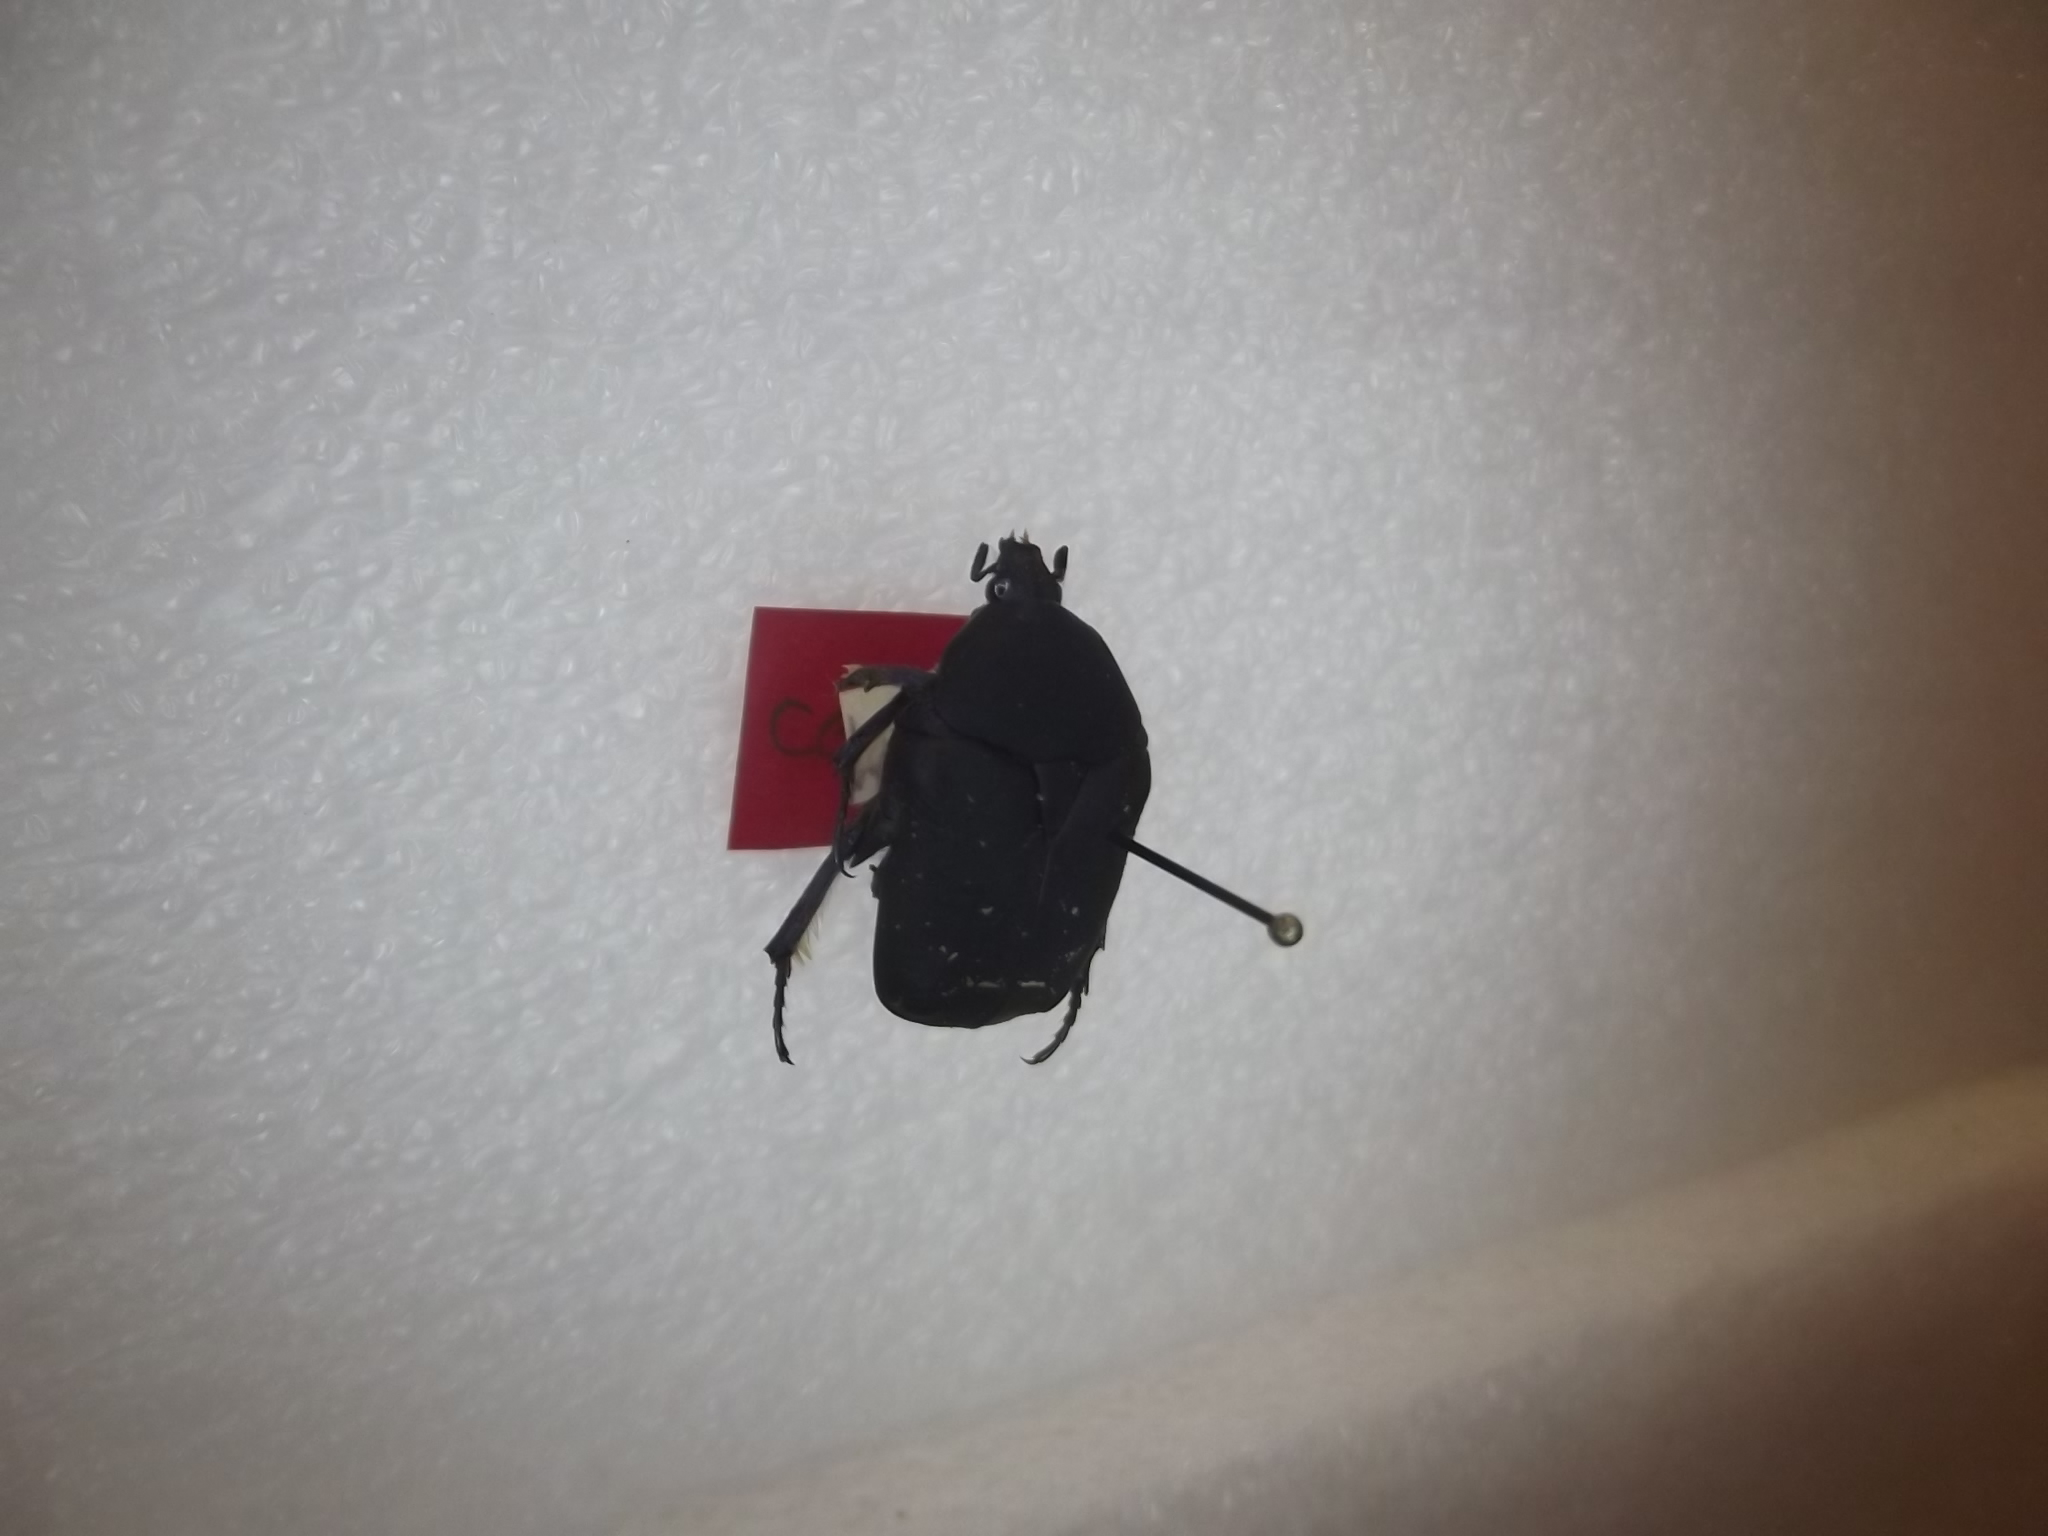Protaetia_ungarica_americana: (735, 507, 1190, 1087)
